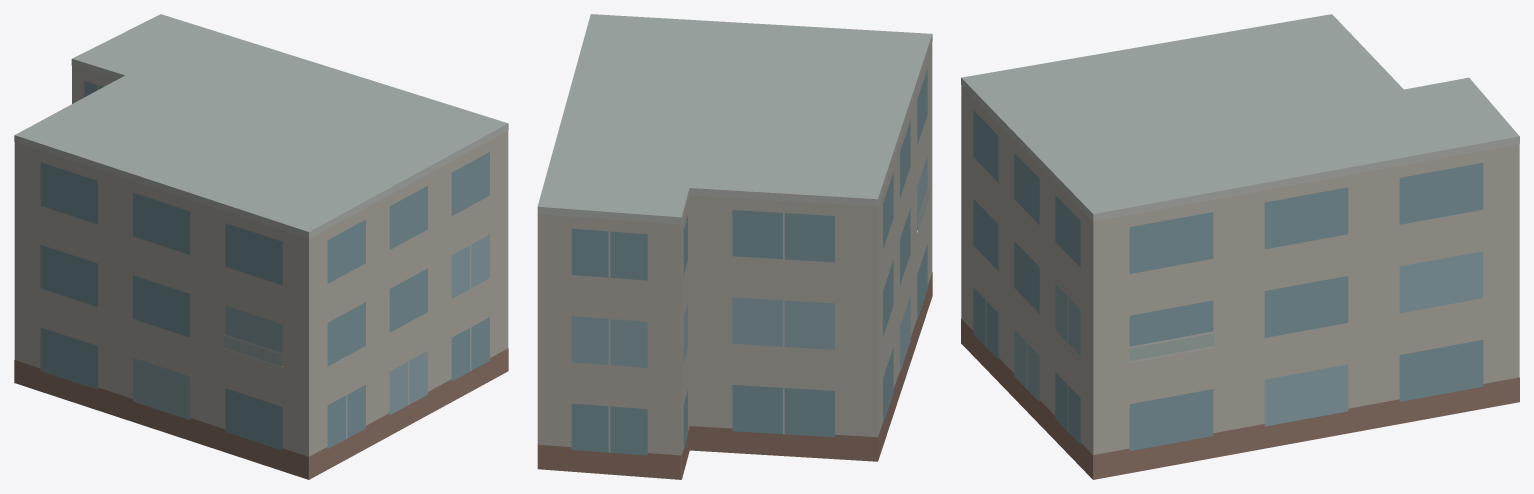
The model's file is survey-upis-32752160.glb.
The picture shows the model from 3 angles, left to right: view 1: azimuth 30°, elevation 25°; view 2: azimuth 150°, elevation 25°; view 3: azimuth 270°, elevation 25°; orthographic projection. The views are drawn at different scales.
Parts seen in each view (by area): view 1: survey-upis-32752160.tmp; view 2: survey-upis-32752160.tmp; view 3: survey-upis-32752160.tmp.
Boxes of the visible parts, box(x1,y1,x2,y2) form: survey-upis-32752160.tmp: box(14, 14, 508, 479); survey-upis-32752160.tmp: box(537, 14, 932, 479); survey-upis-32752160.tmp: box(961, 14, 1519, 479).
Size of the model in its own units: 14.06 by 8.7 by 16.59.
